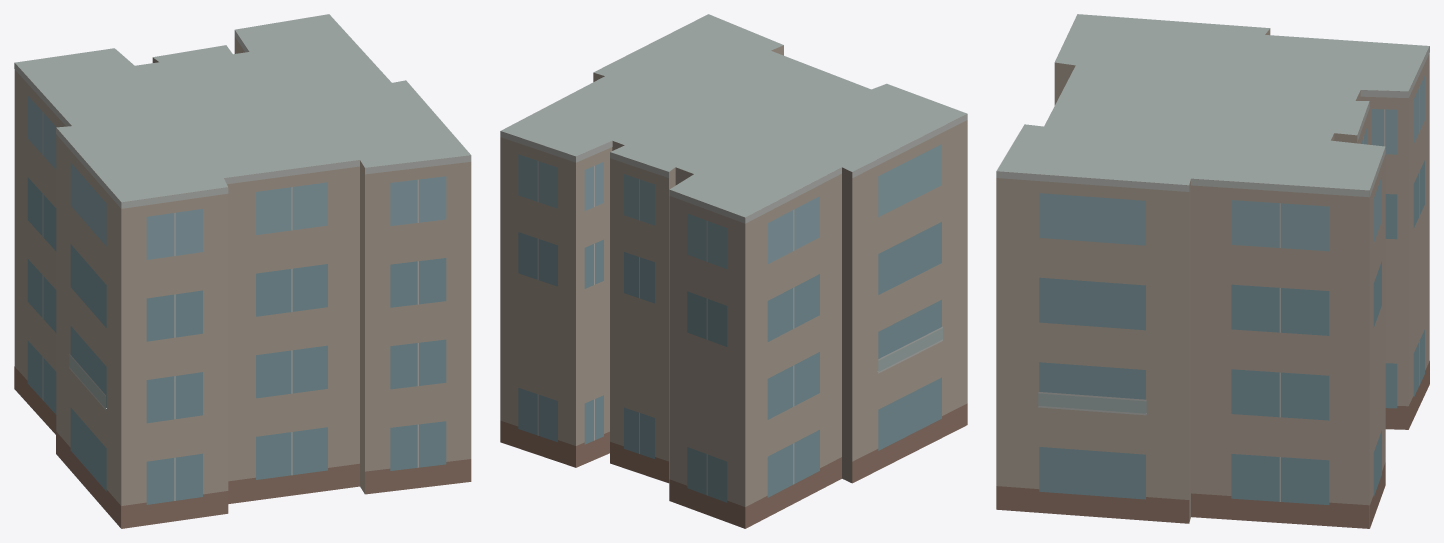
File: survey-upis-32675969.glb
3 renders of one model, left to right at view 1: azimuth 30°, elevation 25°; view 2: azimuth 150°, elevation 25°; view 3: azimuth 270°, elevation 25°, orthographic. The views are drawn at different scales.
Visible parts, largest first — view 1: survey-upis-32675969.tmp; view 2: survey-upis-32675969.tmp; view 3: survey-upis-32675969.tmp.
Boxes of the visible parts, x1,y1,x2,y2 form: survey-upis-32675969.tmp: (14, 14, 471, 528); survey-upis-32675969.tmp: (500, 14, 967, 528); survey-upis-32675969.tmp: (996, 14, 1429, 528).
Size of the model in its own units: 13.65 by 12.2 by 14.17.
